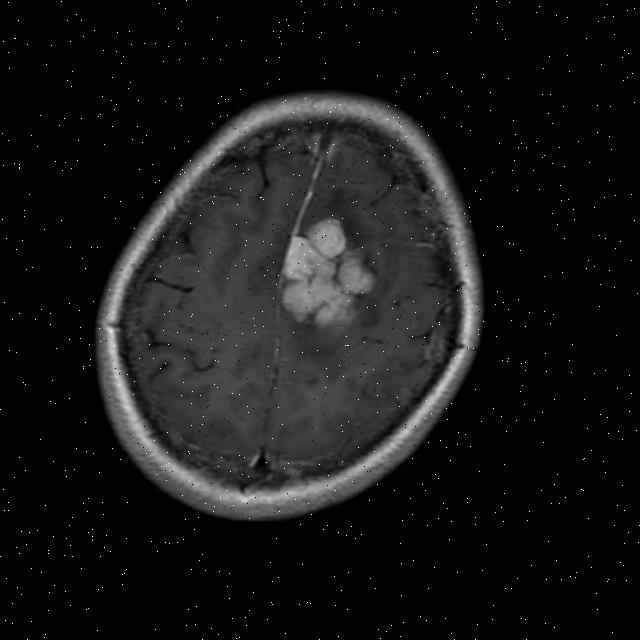Meningioma: (272, 212, 385, 334)
